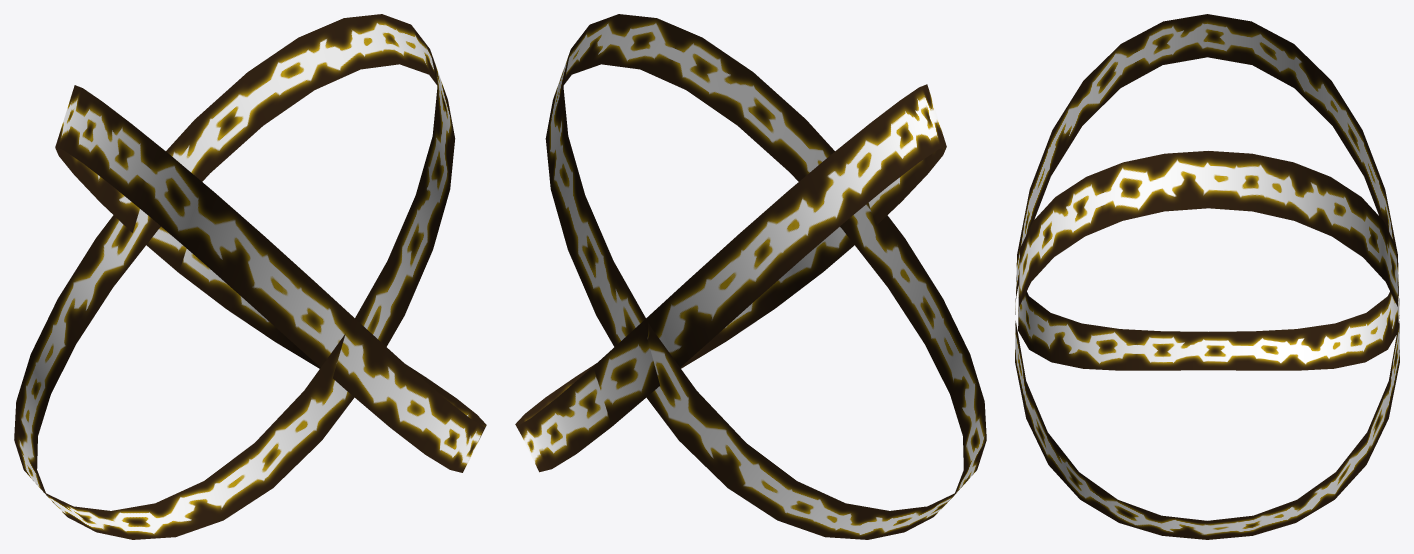
The model's file is Skill_eff_106_hit_suo.FBX.
3 renders of one model, left to right at view 1: azimuth 30°, elevation 25°; view 2: azimuth 150°, elevation 25°; view 3: azimuth 270°, elevation 25°, orthographic. The views are drawn at different scales.
Visible parts, largest first — view 1: Skill_eff_106_hit_suo; view 2: Skill_eff_106_hit_suo; view 3: Skill_eff_106_hit_suo.
Boxes of the visible parts, left/top/right/bottom form: Skill_eff_106_hit_suo: left=14, top=14, right=486, bottom=539; Skill_eff_106_hit_suo: left=515, top=14, right=986, bottom=539; Skill_eff_106_hit_suo: left=1015, top=14, right=1399, bottom=539.
Bounding box in the file's own units: 11.67 × 11.27 × 10.36.
